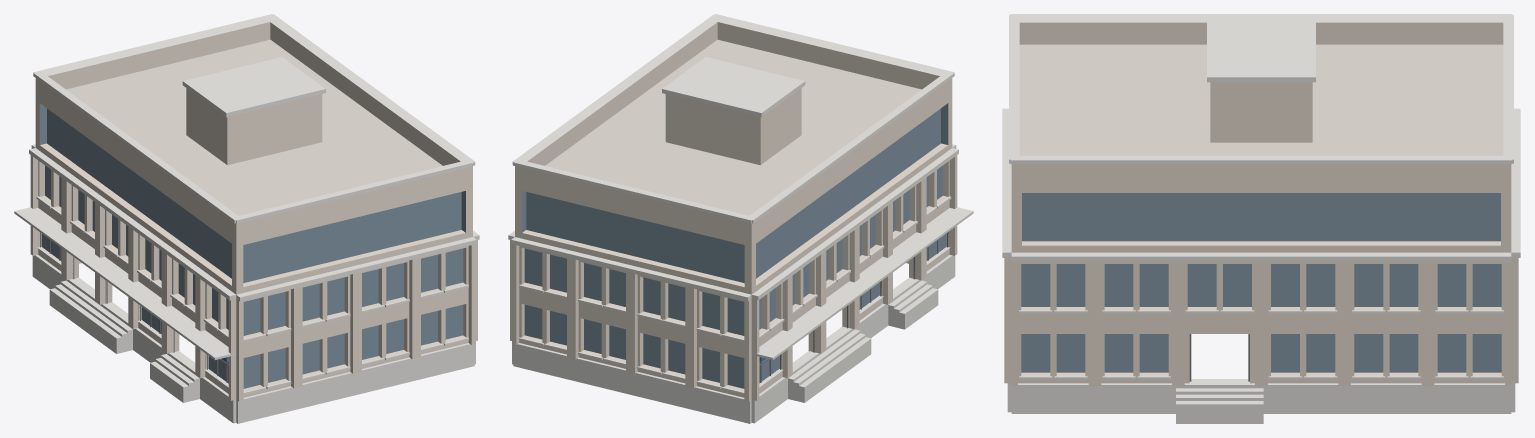
Rendered from Shopping_Medical_2.fbx.
The picture shows the model from 3 angles, left to right: view 1: azimuth 30°, elevation 25°; view 2: azimuth 150°, elevation 25°; view 3: azimuth 270°, elevation 25°; orthographic projection. The views are drawn at different scales.
Parts seen in each view (by area): view 1: Shopping_Medical_2; view 2: Shopping_Medical_2; view 3: Shopping_Medical_2.
Part boxes in pixels (x1,y1,x2,y2): Shopping_Medical_2: [14, 14, 479, 423]; Shopping_Medical_2: [508, 14, 973, 423]; Shopping_Medical_2: [1002, 14, 1520, 423].
Size of the model in its own units: 17.58 by 14.25 by 22.84.
